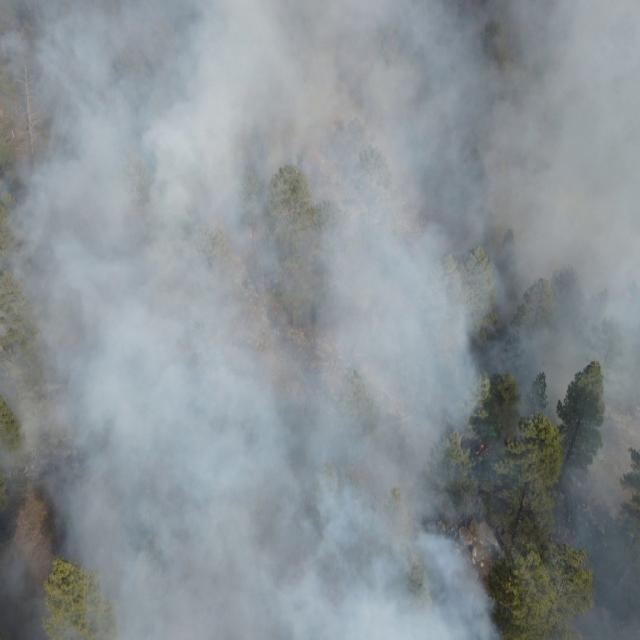fire: (477, 438, 492, 458)
smoke: (1, 0, 492, 640), (491, 0, 640, 422), (559, 422, 640, 640), (492, 614, 507, 640)
